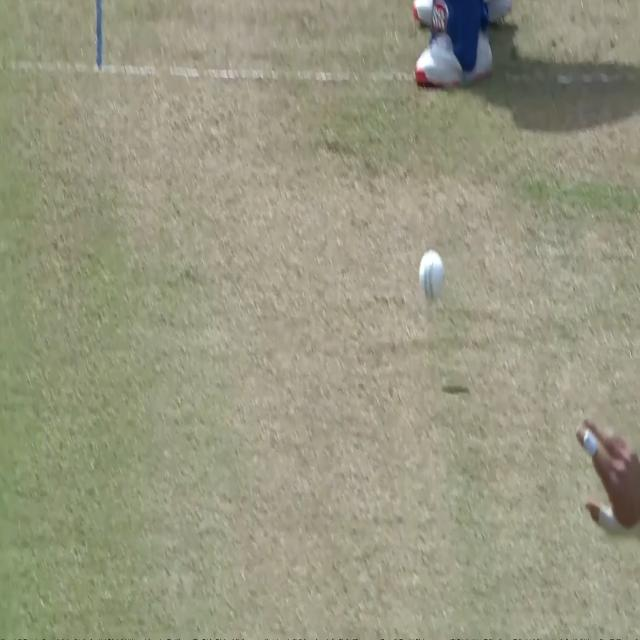ball: (412, 243, 456, 306)
